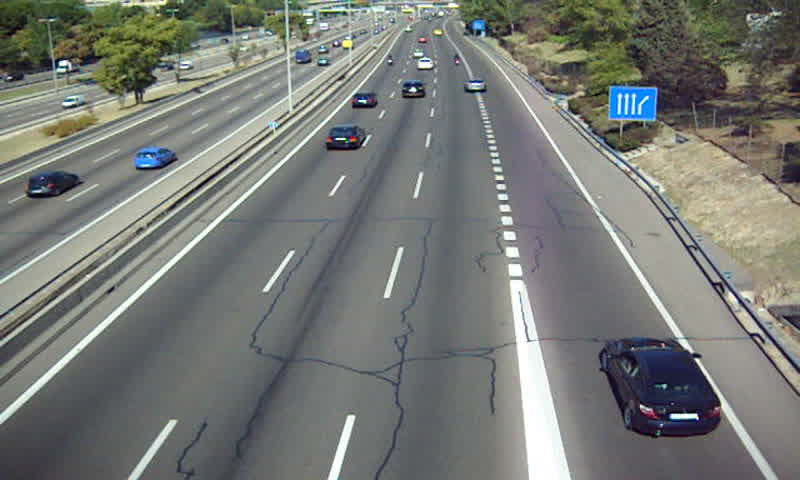car: (601, 338, 721, 437), (324, 125, 364, 151), (400, 79, 425, 98), (352, 90, 376, 108), (464, 77, 487, 94), (416, 55, 434, 70)
motorcycle: (387, 52, 395, 69)
